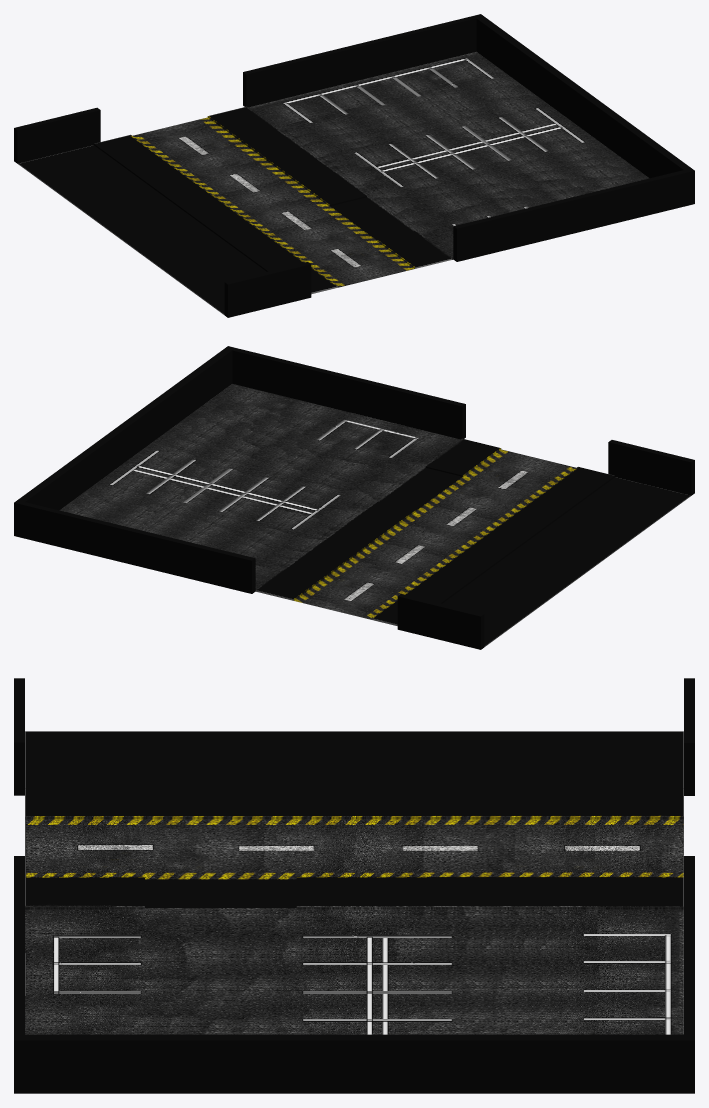
File: wallsCompound.fbx
The picture shows the model from 3 angles, top to bottom: view 1: azimuth 30°, elevation 25°; view 2: azimuth 150°, elevation 25°; view 3: azimuth 270°, elevation 25°; orthographic projection. The views are drawn at different scales.
Parts seen in each view (by area): view 1: pPlane1, walls:walls_Compound; view 2: pPlane1, walls:walls_Compound; view 3: pPlane1, walls:walls_Compound.
Boxes of the visible parts, <box> form: pPlane1: <box>17,52,649,314</box>; walls:walls_Compound: <box>14,14,694,317</box>; pPlane1: <box>59,384,691,646</box>; walls:walls_Compound: <box>14,346,694,649</box>; pPlane1: <box>25,731,683,1034</box>; walls:walls_Compound: <box>14,678,694,1093</box>.
Size of the model in its own units: 100 by 6.84 by 79.57.
